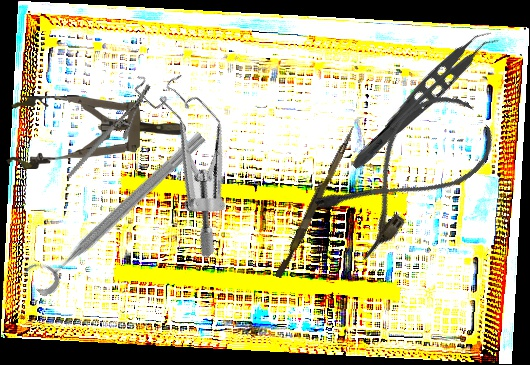Cannula: (309, 79, 506, 264)
Fixation Ring: (19, 117, 211, 300)
Needle Holder: (46, 82, 172, 179)
Pusher: (274, 122, 357, 281)
Speculum: (82, 52, 287, 261), (5, 93, 187, 170)
Tissue Forceps: (347, 20, 502, 183)
